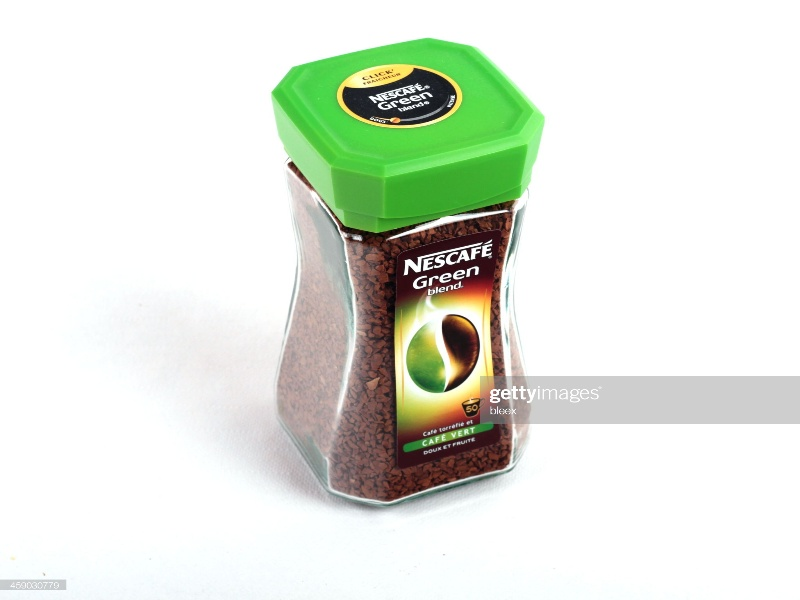nescafe-classic/gold-small: (271, 23, 550, 486)
